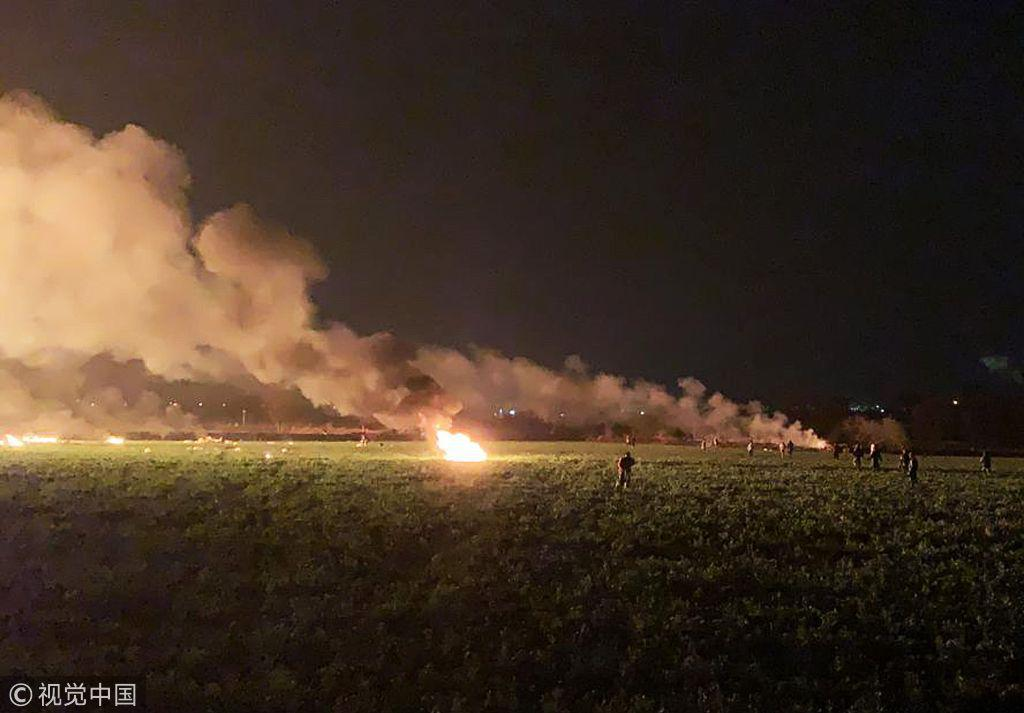fire: (424, 418, 498, 465), (1, 426, 58, 451), (101, 430, 130, 456)
